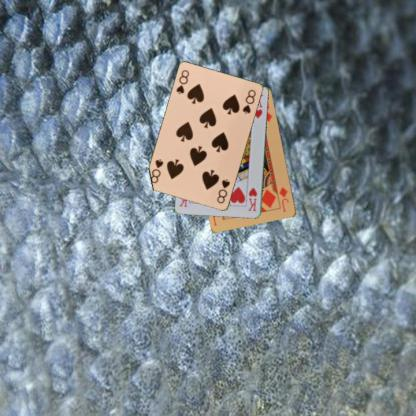8s: (214, 177, 231, 205), (174, 68, 191, 96)
Jd: (277, 185, 290, 213)
Kh: (246, 185, 258, 213)
